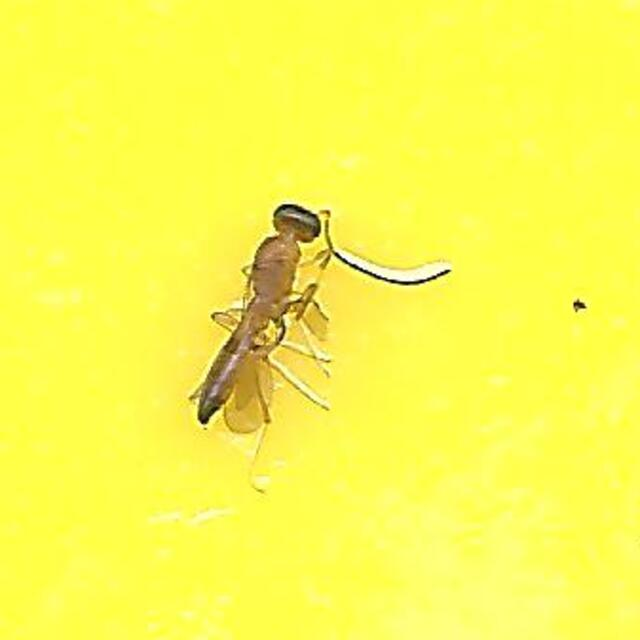Hymenoptera: (190, 193, 450, 447)
